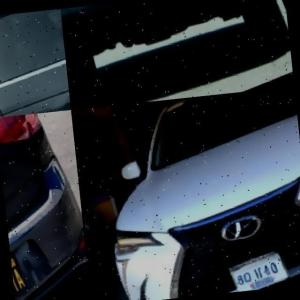Plate: (227, 252, 288, 292), (9, 247, 46, 300), (102, 0, 158, 30)
